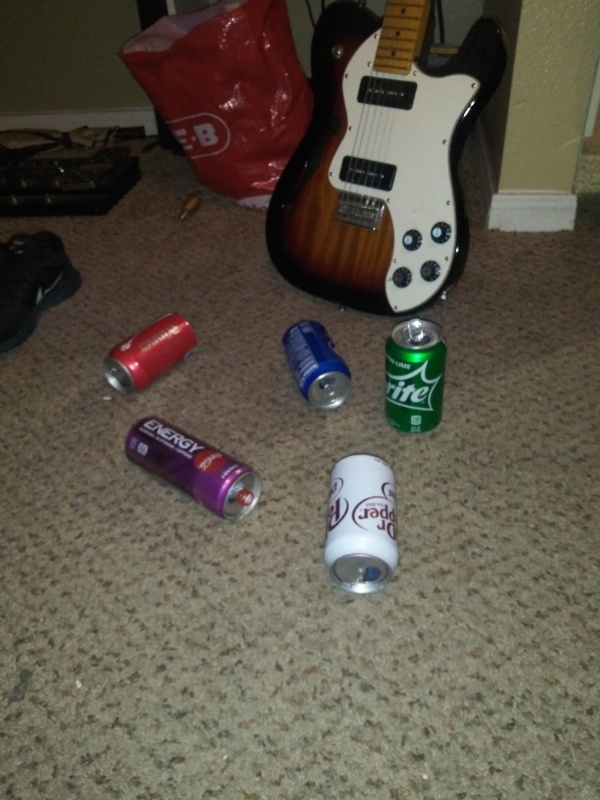can: (122, 413, 264, 526), (323, 450, 400, 597), (101, 311, 201, 397), (381, 317, 451, 436), (280, 317, 355, 414)
